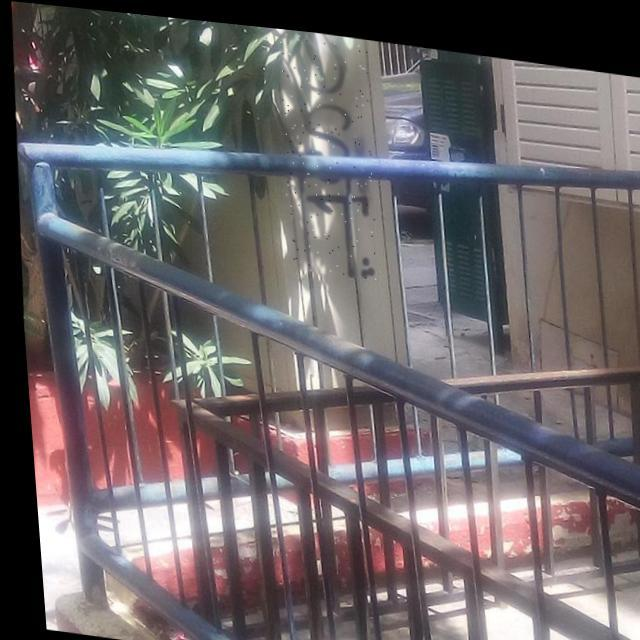-: (270, 22, 381, 273)
